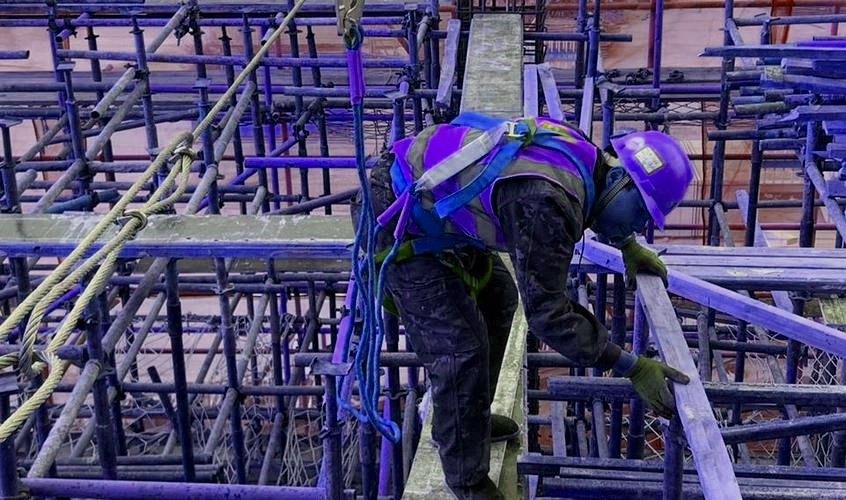safety belt: (400, 112, 594, 270)
